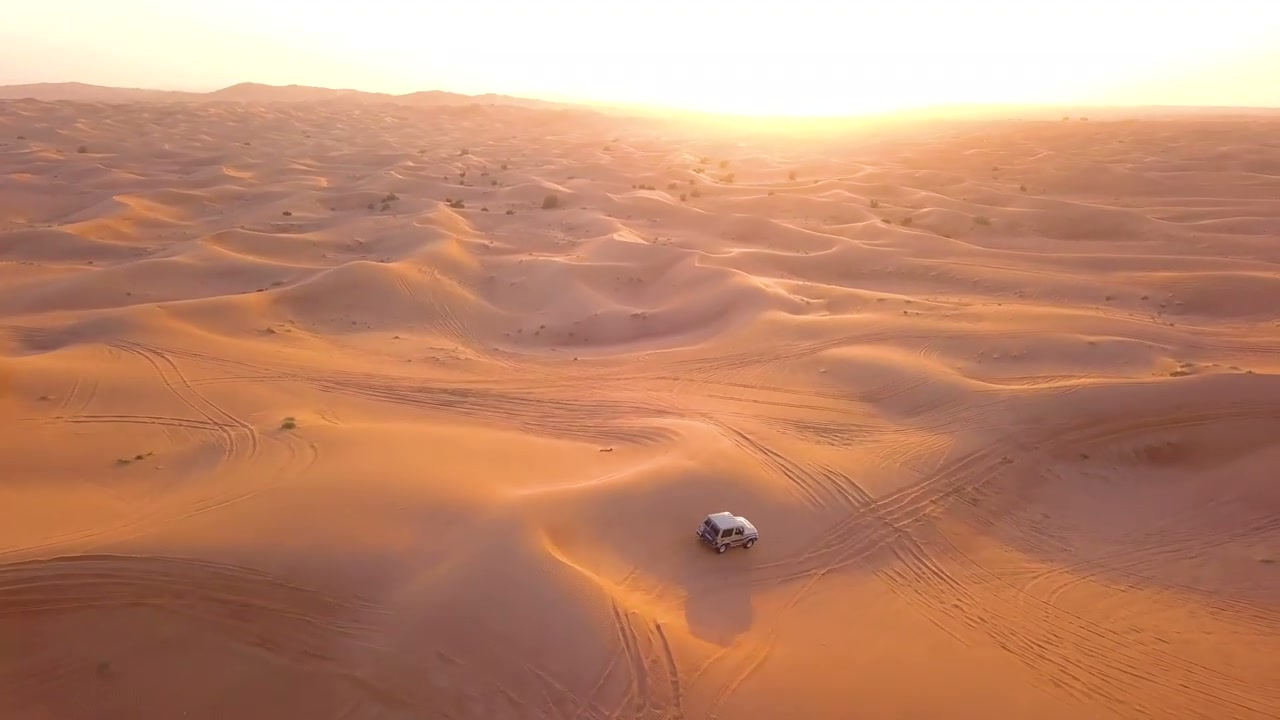vehicle_track: (759, 406, 1274, 581), (894, 528, 1279, 719), (882, 539, 1279, 717), (172, 351, 676, 444), (0, 555, 377, 664), (0, 433, 318, 560), (753, 445, 1001, 583), (1021, 514, 1279, 633), (305, 377, 672, 445), (111, 341, 259, 461), (704, 417, 859, 508), (574, 602, 683, 719), (48, 415, 227, 432), (54, 375, 98, 416)
